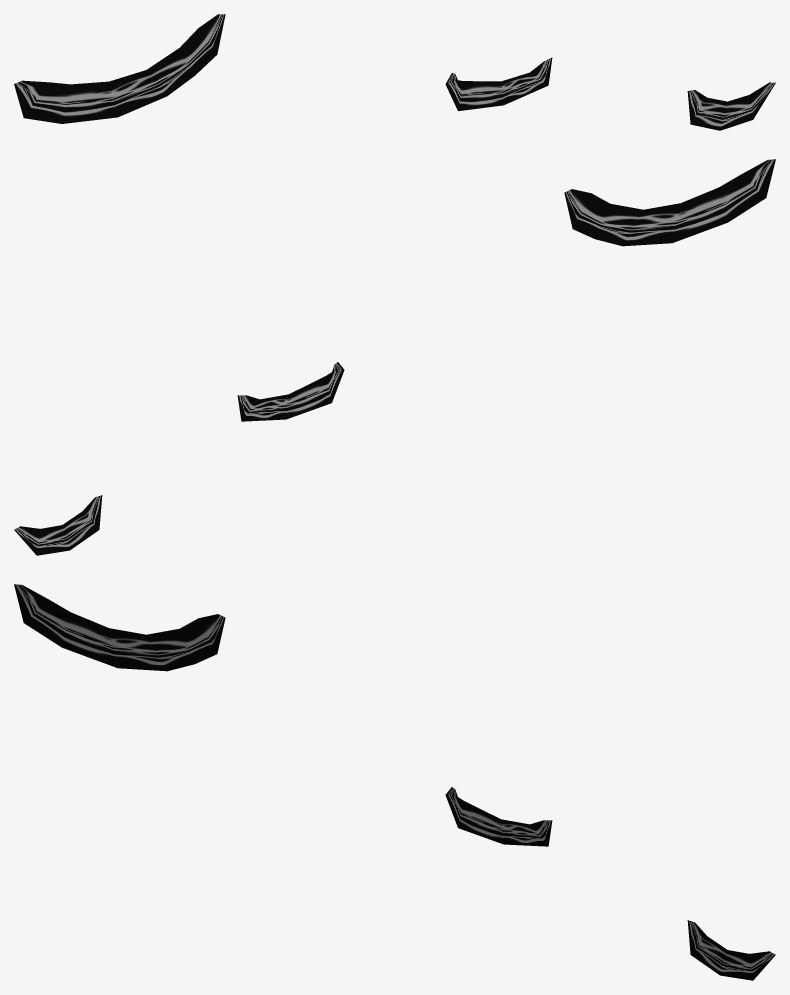
The model's file is Water_wave03.FBX.
3 renders of one model, top to bottom at view 1: azimuth 30°, elevation 25°; view 2: azimuth 210°, elevation 25°; view 3: azimuth 330°, elevation 25°, orthographic.
Visible parts, largest first — view 1: Line106; view 2: Line106; view 3: Line106.
Part boxes in pixels (box(x1,y1,x2,y2)): Line106: box(14, 14, 775, 130); Line106: box(14, 159, 775, 555); Line106: box(14, 584, 775, 980).
Bounding box in the file's own units: 118 × 35.52 × 2.81e-06.
